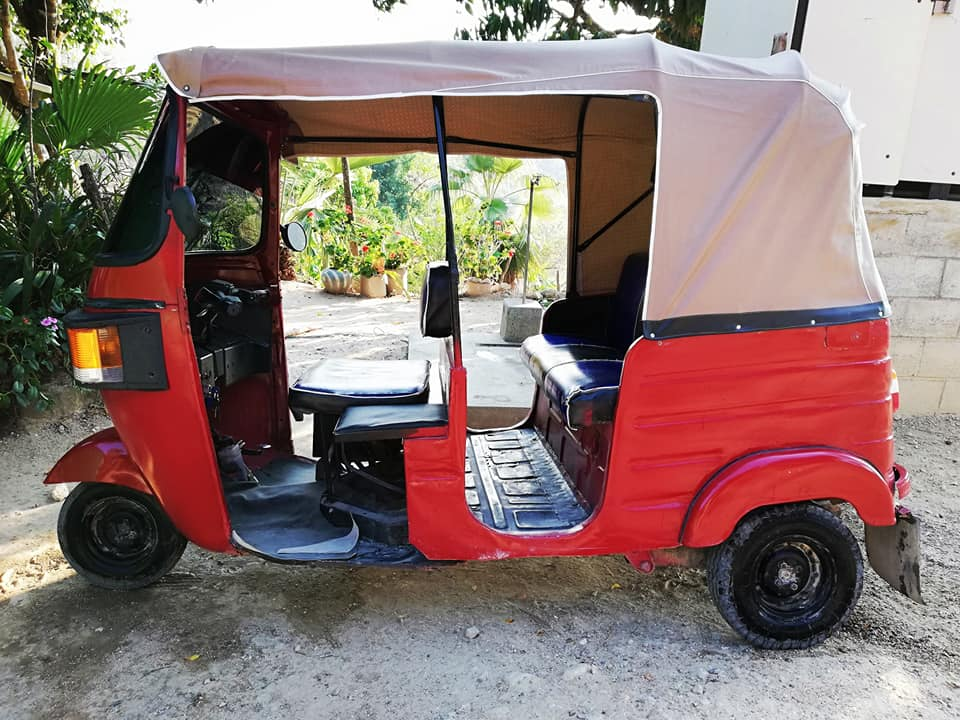mototaxi: (41, 35, 929, 649)
